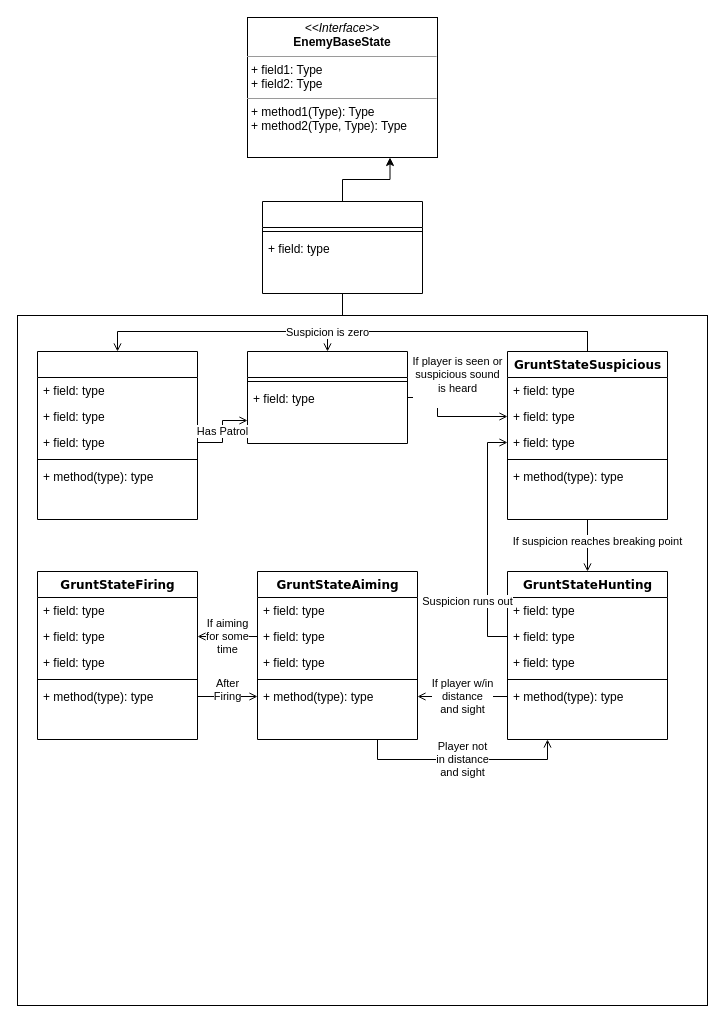
The diagram is 725 pixels wide and 1023 high, and some of its shapes have lost their labels. The shapes that lost their labels are listed below. From the top down, each one's box as (x1, y1, x2, y2) in pixels, then its label:
(262, 200, 422, 294): GruntStateManager
(246, 350, 408, 444): GruntStatePatrolling
(36, 350, 198, 520): GruntStateRelaxed
